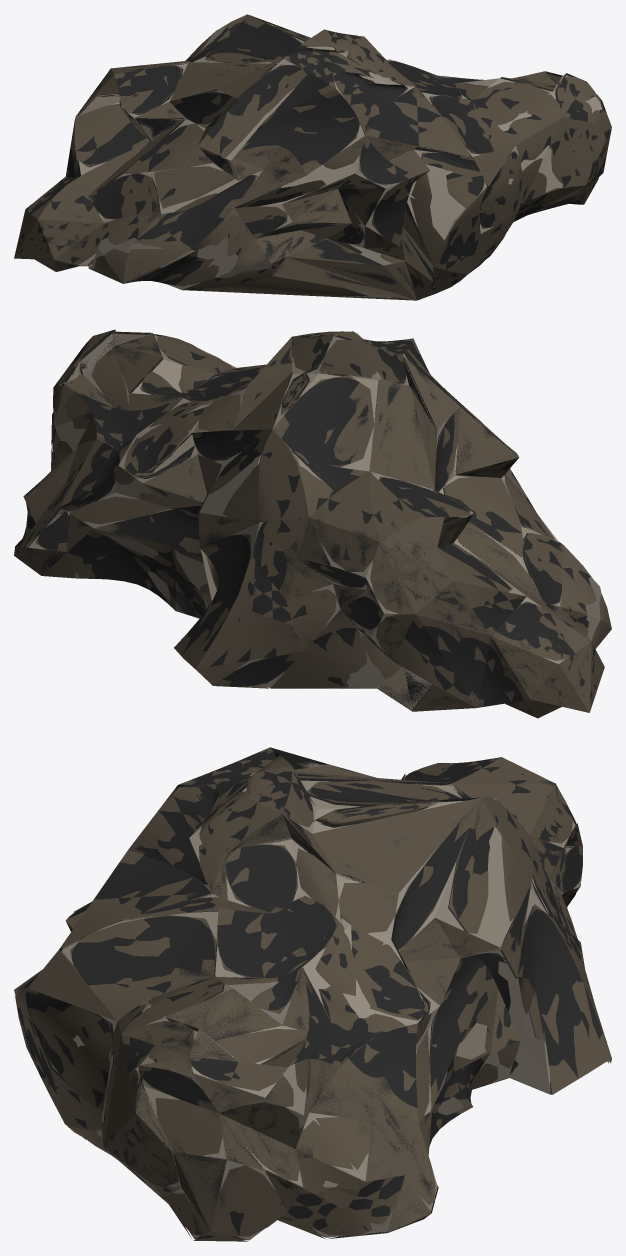
File: Rocks2.fbx
The picture shows the model from 3 angles, top to bottom: view 1: azimuth 30°, elevation 25°; view 2: azimuth 150°, elevation 25°; view 3: azimuth 270°, elevation 25°; orthographic projection. The views are drawn at different scales.
Parts seen in each view (by area): view 1: rock_26, rock_29, rock_25; view 2: rock_26, rock_29, rock_25; view 3: rock_26, rock_29, rock_25.
Part boxes in pixels (left/top/right/bottom): rock_26: left=14, top=14, right=611, bottom=300; rock_29: left=18, top=15, right=611, bottom=293; rock_25: left=27, top=22, right=602, bottom=297; rock_26: left=14, top=331, right=611, bottom=718; rock_29: left=14, top=329, right=610, bottom=715; rock_25: left=20, top=332, right=601, bottom=709; rock_26: left=15, top=747, right=611, bottom=1241; rock_29: left=17, top=747, right=611, bottom=1239; rock_25: left=14, top=761, right=609, bottom=1240.
Bounding box in the file's own units: 1552 × 672 × 1060.
